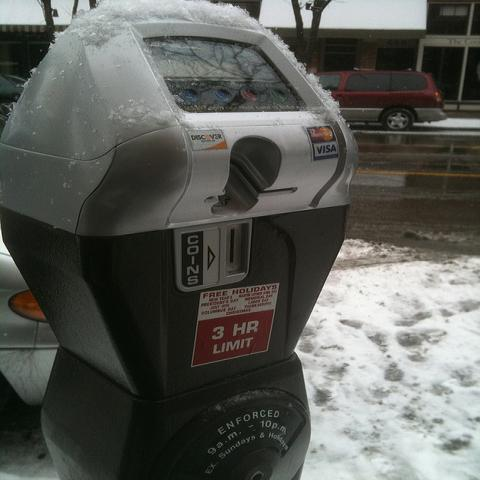car: (0, 227, 61, 436), (316, 71, 452, 133)
